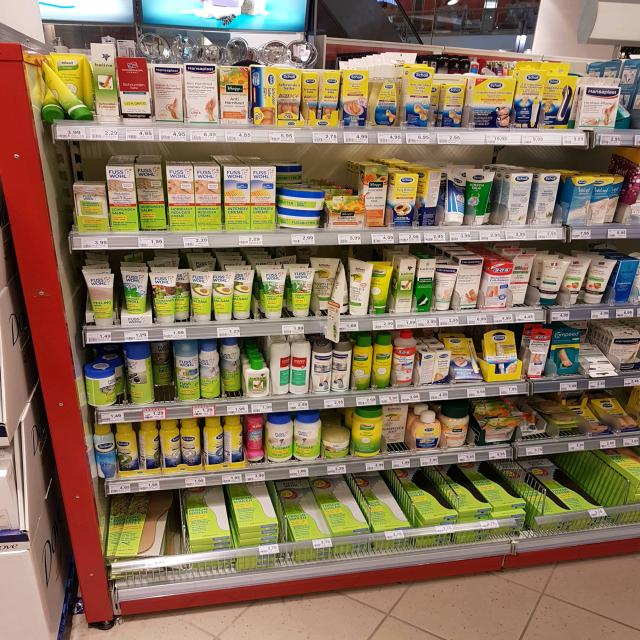unorganised: (559, 174, 628, 226), (42, 53, 92, 122), (133, 165, 170, 233), (280, 181, 321, 230), (89, 359, 123, 408), (126, 347, 153, 405), (468, 170, 494, 222), (444, 171, 467, 225), (512, 257, 536, 308), (421, 170, 442, 228), (153, 342, 175, 397), (446, 80, 470, 130), (329, 266, 353, 316), (383, 404, 409, 450), (203, 418, 225, 472), (222, 342, 243, 397), (372, 264, 394, 311), (160, 422, 180, 470), (139, 421, 159, 468), (172, 270, 190, 322), (225, 419, 245, 464), (430, 81, 441, 124)
